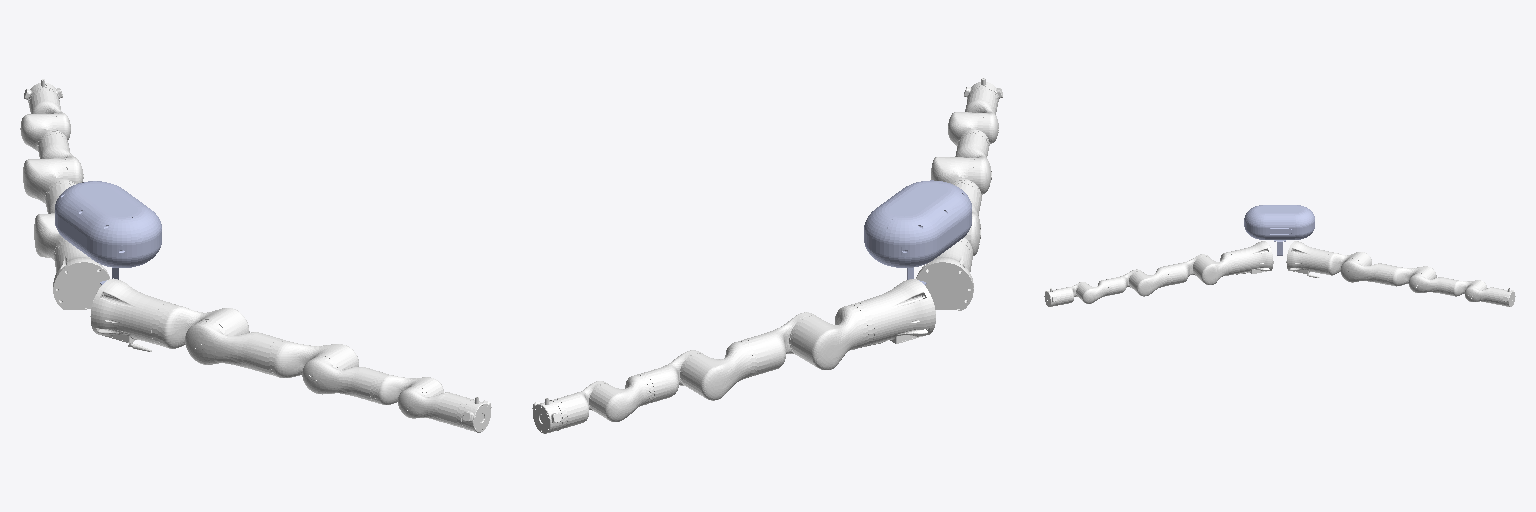
The robot description file, URDF, robot "dual_arm_description":
<?xml version="1.0" encoding="utf-8"?>
<!-- This URDF was automatically created by SolidWorks to URDF Exporter! Originally created by [author] ([email redacted]) 
     Commit Version: 1.6.0-1-g15f4949  Build Version: 1.6.7594.29634
     For more information, please see http://wiki.ros.org/sw_urdf_exporter -->
<robot
  name="dual_arm_description">
  <link
    name="base_link_body">
    <inertial>
      <origin
        xyz="0.0128539982690647 0.00024456315542483 0.454886228118401"
        rpy="0 0 0" />
      <mass
        value="4.84499867153642" />
      <inertia
        ixx="0.253916315389985"
        ixy="2.82770486252538E-05"
        ixz="0.0180888652883138"
        iyy="0.235976825156133"
        iyz="-0.00010574087379807"
        izz="0.0472926866224148" />
    </inertial>
    <visual>
      <origin
        xyz="0 0 0"
        rpy="0 0 0" />
      <geometry>
        <mesh
          filename="package://dual_arm_description/meshes/base_link_body.STL" />
      </geometry>
      <material
        name="">
        <color
          rgba="0.792156862745098 0.819607843137255 0.933333333333333 1" />
      </material>
    </visual>
    <collision>
      <origin
        xyz="0 0 0"
        rpy="0 0 0" />
      <geometry>
        <mesh
          filename="package://dual_arm_description/meshes/base_link_body.STL" />
      </geometry>
    </collision>
  </link>
  <link
    name="leftarm_baselink">
    <inertial>
      <origin
        xyz="-0.000432999595117889 -0.0253647866812423 0.0543107766307502"
        rpy="0 0 0" />
      <mass
        value="0.841053943258763" />
      <inertia
        ixx="0.00172611644034238"
        ixy="1.78270466618467E-05"
        ixz="-3.22528352436582E-05"
        iyy="0.00156466360449768"
        iyz="0.000309735880833908"
        izz="0.0010492386490986" />
    </inertial>
    <visual>
      <origin
        xyz="0 0 0"
        rpy="0 0 0" />
      <geometry>
        <mesh
          filename="package://dual_arm_description/meshes/leftarm_baselink.STL" />
      </geometry>
      <material
        name="">
        <color
          rgba="1 1 1 1" />
      </material>
    </visual>
    <collision>
      <origin
        xyz="0 0 0"
        rpy="0 0 0" />
      <geometry>
        <mesh
          filename="package://dual_arm_description/meshes/leftarm_baselink.STL" />
      </geometry>
    </collision>
  </link>
  <joint
    name="joint_leftarm_baselink"
    type="fixed">
    <origin
      xyz="-0.048582 0.046209 0.8505"
      rpy="1.5708 1.5708 3.1416" />
    <parent
      link="base_link_body" />
    <child
      link="leftarm_baselink" />
    <axis
      xyz="0 0 0" />
  </joint>
  <link
    name="l_link1">
    <inertial>
      <origin
        xyz="1.2558322970424E-07 0.0211078394712095 -0.0251870141264139"
        rpy="0 0 0" />
      <mass
        value="0.593542791255359" />
      <inertia
        ixx="0.00126609481431553"
        ixy="-1.1660705508757E-08"
        ixz="-6.7144103650412E-09"
        iyy="0.00118163394832993"
        iyz="-0.00021119635150706"
        izz="0.000561330691579395" />
    </inertial>
    <visual>
      <origin
        xyz="0 0 0"
        rpy="0 0 0" />
      <geometry>
        <mesh
          filename="package://dual_arm_description/meshes/leftarm_link1.STL" />
      </geometry>
      <material
        name="">
        <color
          rgba="1 1 1 1" />
      </material>
    </visual>
    <collision>
      <origin
        xyz="0 0 0"
        rpy="0 0 0" />
      <geometry>
        <mesh
          filename="package://dual_arm_description/meshes/leftarm_link1.STL" />
      </geometry>
    </collision>
  </link>
  <joint
    name="l_joint1"
    type="revolute">
    <origin
      xyz="0 -0.10164 0.21797"
      rpy="0.43633 0 0" />
    <parent
      link="leftarm_baselink" />
    <child
      link="l_link1" />
    <axis
      xyz="0 0 1" />
    <limit
      lower="-3.17"
      upper="3.17"
      effort="100"
      velocity="1" />
  </joint>
  <link
    name="l_link2">
    <inertial>
      <origin
        xyz="0.152256639181586 -6.8741057290822E-08 -0.00620274964884654"
        rpy="0 0 0" />
      <mass
        value="0.864164535306825" />
      <inertia
        ixx="0.000632534815773631"
        ixy="7.118138868789E-09"
        ixz="0.000421613307265105"
        iyy="0.00205269245714842"
        iyz="-2.37409002005455E-09"
        izz="0.00195280632966444" />
    </inertial>
    <visual>
      <origin
        xyz="0 0 0"
        rpy="0 0 0" />
      <geometry>
        <mesh
          filename="package://dual_arm_description/meshes/leftarm_link2.STL" />
      </geometry>
      <material
        name="">
        <color
          rgba="1 1 1 1" />
      </material>
    </visual>
    <collision>
      <origin
        xyz="0 0 0"
        rpy="0 0 0" />
      <geometry>
        <mesh
          filename="package://dual_arm_description/meshes/leftarm_link2.STL" />
      </geometry>
    </collision>
  </link>
  <joint
    name="l_joint2"
    type="revolute">
    <origin
      xyz="0 0 0"
      rpy="1.5708 -1.5708 0" />
    <parent
      link="l_link1" />
    <child
      link="l_link2" />
    <axis
      xyz="0 0 1" />
    <limit
      lower="-2.269"
      upper="2.269"
      effort="100"
      velocity="1" />
  </joint>
  <link
    name="l_link3">
    <inertial>
      <origin
        xyz="4.581346443433E-06 -0.0595918690908317 0.0105678729075792"
        rpy="0 0 0" />
      <mass
        value="0.289627183438536" />
      <inertia
        ixx="0.000637372381443394"
        ixy="-6.1176938209959E-08"
        ixz="-3.47055290197872E-08"
        iyy="0.000156488372553995"
        iyz="-0.000144609986104378"
        izz="0.000614182528015267" />
    </inertial>
    <visual>
      <origin
        xyz="0 0 0"
        rpy="0 0 0" />
      <geometry>
        <mesh
          filename="package://dual_arm_description/meshes/leftarm_link3.STL" />
      </geometry>
      <material
        name="">
        <color
          rgba="1 1 1 1" />
      </material>
    </visual>
    <collision>
      <origin
        xyz="0 0 0"
        rpy="0 0 0" />
      <geometry>
        <mesh
          filename="package://dual_arm_description/meshes/leftarm_link3.STL" />
      </geometry>
    </collision>
  </link>
  <joint
    name="l_joint3"
    type="revolute">
    <origin
      xyz="0.256 0 0"
      rpy="0 0 1.5708" />
    <parent
      link="l_link2" />
    <child
      link="l_link3" />
    <axis
      xyz="0 0 1" />
    <limit
      lower="-2.356"
      upper="2.356"
      effort="100"
      velocity="1" />
  </joint>
  <link
    name="l_link4">
    <inertial>
      <origin
        xyz="1.24680132917998E-06 -0.0180408018957722 -0.0215409760570937"
        rpy="0 0 0" />
      <mass
        value="0.239401552827541" />
      <inertia
        ixx="0.000285939946652697"
        ixy="2.87028719092788E-09"
        ixz="-2.03297192163457E-09"
        iyy="0.000262727437679864"
        iyz="4.42371878984772E-05"
        izz="0.000119889210152995" />
    </inertial>
    <visual>
      <origin
        xyz="0 0 0"
        rpy="0 0 0" />
      <geometry>
        <mesh
          filename="package://dual_arm_description/meshes/leftarm_link4.STL" />
      </geometry>
      <material
        name="">
        <color
          rgba="1 1 1 1" />
      </material>
    </visual>
    <collision>
      <origin
        xyz="0 0 0"
        rpy="0 0 0" />
      <geometry>
        <mesh
          filename="package://dual_arm_description/meshes/leftarm_link4.STL" />
      </geometry>
    </collision>
  </link>
  <joint
    name="l_joint4"
    type="revolute">
    <origin
      xyz="0 -0.21 0"
      rpy="1.5708 0 0" />
    <parent
      link="l_link3" />
    <child
      link="l_link4" />
    <axis
      xyz="0 0 1" />
    <limit
      lower="-3.107"
      upper="3.107"
      effort="100"
      velocity="1" />
  </joint>
  <link
    name="l_link5">
    <inertial>
      <origin
        xyz="3.18527992748674E-06 -0.0593808069262866 0.00736685077974486"
        rpy="0 0 0" />
      <mass
        value="0.218788518710121" />
      <inertia
        ixx="0.00035053220334839"
        ixy="-2.91054107188612E-08"
        ixz="-1.69368293536455E-08"
        iyy="0.000104923882805524"
        iyz="-7.8240459135383E-05"
        izz="0.000334473394056977" />
    </inertial>
    <visual>
      <origin
        xyz="0 0 0"
        rpy="0 0 0" />
      <geometry>
        <mesh
          filename="package://dual_arm_description/meshes/leftarm_link5.STL" />
      </geometry>
      <material
        name="">
        <color
          rgba="1 1 1 1" />
      </material>
    </visual>
    <collision>
      <origin
        xyz="0 0 0"
        rpy="0 0 0" />
      <geometry>
        <mesh
          filename="package://dual_arm_description/meshes/leftarm_link5.STL" />
      </geometry>
    </collision>
  </link>
  <joint
    name="l_joint5"
    type="revolute">
    <origin
      xyz="0 0 0"
      rpy="-1.5708 0 0" />
    <parent
      link="l_link4" />
    <child
      link="l_link5" />
    <axis
      xyz="0 0 1" />
    <limit
      lower="-2.234"
      upper="2.234"
      effort="100"
      velocity="1" />
  </joint>
  <link
    name="l_link6">
    <inertial>
      <origin
        xyz="0.000815494474258882 1.33024504395673E-05 -0.0127046894991738"
        rpy="0 0 0" />
      <mass
        value="0.0650365013096983" />
      <inertia
        ixx="2.11435758493354E-05"
        ixy="-2.27635075237127E-08"
        ixz="-2.54504574357203E-08"
        iyy="1.81086373188316E-05"
        iyz="-1.02171121765921E-08"
        izz="3.18999881344653E-05" />
    </inertial>
    <visual>
      <origin
        xyz="0 0 0"
        rpy="0 0 0" />
      <geometry>
        <mesh
          filename="package://dual_arm_description/meshes/leftarm_link6.STL" />
      </geometry>
      <material
        name="">
        <color
          rgba="1 1 1 1" />
      </material>
    </visual>
    <collision>
      <origin
        xyz="0 0 0"
        rpy="0 0 0" />
      <geometry>
        <mesh
          filename="package://dual_arm_description/meshes/leftarm_link6.STL" />
      </geometry>
    </collision>
  </link>
  <joint
    name="l_joint6"
    type="revolute">
    <origin
      xyz="0 -0.144 0"
      rpy="1.5708 0 0" />
    <parent
      link="l_link5" />
    <child
      link="l_link6" />
    <axis
      xyz="0 0 1" />
    <limit
      lower="-6.283"
      upper="6.283"
      effort="100"
      velocity="1" />
  </joint>
  <link
    name="rightarm_baselink">
    <inertial>
      <origin
        xyz="-0.000433113884992009 -3.51019227824573E-05 0.0599421388510736"
        rpy="0 0 0" />
      <mass
        value="0.841043880067011" />
      <inertia
        ixx="0.00172610477060889"
        ixy="2.52732087166354E-06"
        ixz="-3.67683678117906E-05"
        iyy="0.00170986821986806"
        iyz="1.68071317514513E-06"
        izz="0.000904018060785049" />
    </inertial>
    <visual>
      <origin
        xyz="0 0 0"
        rpy="0 0 0" />
      <geometry>
        <mesh
          filename="package://dual_arm_description/meshes/rightarm_baselink.STL" />
      </geometry>
      <material
        name="">
        <color
          rgba="1 1 1 1" />
      </material>
    </visual>
    <collision>
      <origin
        xyz="0 0 0"
        rpy="0 0 0" />
      <geometry>
        <mesh
          filename="package://dual_arm_description/meshes/rightarm_baselink.STL" />
      </geometry>
    </collision>
  </link>
  <joint
    name="joint_rightarm_baselink"
    type="fixed">
    <origin
      xyz="-0.048582 -0.045624 0.8505"
      rpy="-1.5708 1.5708 -2.7053" />
    <parent
      link="base_link_body" />
    <child
      link="rightarm_baselink" />
    <axis
      xyz="0 0 0" />
  </joint>
  <link
    name="r_link1">
    <inertial>
      <origin
        xyz="2.4328534264928E-07 0.0211084151465185 -0.0251857587696857"
        rpy="0 0 0" />
      <mass
        value="0.593559090524872" />
      <inertia
        ixx="0.00126612995129149"
        ixy="-1.49938755826745E-08"
        ixz="1.27507001829319E-08"
        iyy="0.00118166925262709"
        iyz="-0.000211214528270289"
        izz="0.000561349546552977" />
    </inertial>
    <visual>
      <origin
        xyz="0 0 0"
        rpy="0 0 0" />
      <geometry>
        <mesh
          filename="package://dual_arm_description/meshes/rightarm_link1.STL" />
      </geometry>
      <material
        name="">
        <color
          rgba="1 1 1 1" />
      </material>
    </visual>
    <collision>
      <origin
        xyz="0 0 0"
        rpy="0 0 0" />
      <geometry>
        <mesh
          filename="package://dual_arm_description/meshes/rightarm_link1.STL" />
      </geometry>
    </collision>
  </link>
  <joint
    name="r_joint1"
    type="revolute">
    <origin
      xyz="0 0 0.2405"
      rpy="0 0 0" />
    <parent
      link="rightarm_baselink" />
    <child
      link="r_link1" />
    <axis
      xyz="0 0 1" />
    <limit
      lower="-3.17"
      upper="3.17"
      effort="100"
      velocity="1" />
  </joint>
  <link
    name="r_link2">
    <inertial>
      <origin
        xyz="0.152255830104308 -1.0467066902109E-07 -0.00620257380254835"
        rpy="0 0 0" />
      <mass
        value="0.864167223088339" />
      <inertia
        ixx="0.000632535359777888"
        ixy="-1.02597241036801E-08"
        ixz="0.00042162057577217"
        iyy="0.00205270852835029"
        iyz="8.03680128129144E-10"
        izz="0.00195281903232891" />
    </inertial>
    <visual>
      <origin
        xyz="0 0 0"
        rpy="0 0 0" />
      <geometry>
        <mesh
          filename="package://dual_arm_description/meshes/rightarm_link2.STL" />
      </geometry>
      <material
        name="">
        <color
          rgba="1 1 1 1" />
      </material>
    </visual>
    <collision>
      <origin
        xyz="0 0 0"
        rpy="0 0 0" />
      <geometry>
        <mesh
          filename="package://dual_arm_description/meshes/rightarm_link2.STL" />
      </geometry>
    </collision>
  </link>
  <joint
    name="r_joint2"
    type="revolute">
    <origin
      xyz="0 0 0"
      rpy="1.5708 -1.5708 0" />
    <parent
      link="r_link1" />
    <child
      link="r_link2" />
    <axis
      xyz="0 0 1" />
    <limit
      lower="-2.269"
      upper="2.269"
      effort="100"
      velocity="1" />
  </joint>
  <link
    name="r_link3">
    <inertial>
      <origin
        xyz="5.52391717467682E-06 -0.0595916227122395 0.0105703991743573"
        rpy="0 0 0" />
      <mass
        value="0.289630363340933" />
      <inertia
        ixx="0.000637371082598885"
        ixy="-7.65858084986364E-08"
        ixz="-4.16812573472858E-08"
        iyy="0.000156481849154391"
        iyz="-0.000144610812036888"
        izz="0.000614175688513162" />
    </inertial>
    <visual>
      <origin
        xyz="0 0 0"
        rpy="0 0 0" />
      <geometry>
        <mesh
          filename="package://dual_arm_description/meshes/rightarm_link3.STL" />
      </geometry>
      <material
        name="">
        <color
          rgba="1 1 1 1" />
      </material>
    </visual>
    <collision>
      <origin
        xyz="0 0 0"
        rpy="0 0 0" />
      <geometry>
        <mesh
          filename="package://dual_arm_description/meshes/rightarm_link3.STL" />
      </geometry>
    </collision>
  </link>
  <joint
    name="r_joint3"
    type="revolute">
    <origin
      xyz="0.256 0 0"
      rpy="0 0 1.5708" />
    <parent
      link="r_link2" />
    <child
      link="r_link3" />
    <axis
      xyz="0 0 1" />
    <limit
      lower="-2.356"
      upper="2.356"
      effort="100"
      velocity="1" />
  </joint>
  <link
    name="r_link4">
    <inertial>
      <origin
        xyz="1.3415659080307E-06 -0.0180409868337329 -0.0215412554023469"
        rpy="0 0 0" />
      <mass
        value="0.239404736569047" />
      <inertia
        ixx="0.000285944037894423"
        ixy="-9.61106690777394E-10"
        ixz="-1.71729709223439E-10"
        iyy="0.000262730635061587"
        iyz="4.42385748513819E-05"
        izz="0.000119896966999011" />
    </inertial>
    <visual>
      <origin
        xyz="0 0 0"
        rpy="0 0 0" />
      <geometry>
        <mesh
          filename="package://dual_arm_description/meshes/rightarm_link4.STL" />
      </geometry>
      <material
        name="">
        <color
          rgba="1 1 1 1" />
      </material>
    </visual>
    <collision>
      <origin
        xyz="0 0 0"
        rpy="0 0 0" />
      <geometry>
        <mesh
          filename="package://dual_arm_description/meshes/rightarm_link4.STL" />
      </geometry>
    </collision>
  </link>
  <joint
    name="r_joint4"
    type="revolute">
    <origin
      xyz="0 -0.21 0"
      rpy="1.5708 0 0" />
    <parent
      link="r_link3" />
    <child
      link="r_link4" />
    <axis
      xyz="0 0 1" />
    <limit
      lower="-3.107"
      upper="3.107"
      effort="100"
      velocity="1" />
  </joint>
  <link
    name="r_link5">
    <inertial>
      <origin
        xyz="3.30037335949385E-06 -0.0593804290076836 0.00736919202783246"
        rpy="0 0 0" />
      <mass
        value="0.218794351178889" />
      <inertia
        ixx="0.000350538397335421"
        ixy="-3.50100440529632E-08"
        ixz="-1.82096966746362E-08"
        iyy="0.000104927580577148"
        iyz="-7.82424194508105E-05"
        izz="0.000334480013682156" />
    </inertial>
    <visual>
      <origin
        xyz="0 0 0"
        rpy="0 0 0" />
      <geometry>
        <mesh
          filename="package://dual_arm_description/meshes/rightarm_link5.STL" />
      </geometry>
      <material
        name="">
        <color
          rgba="1 1 1 1" />
      </material>
    </visual>
    <collision>
      <origin
        xyz="0 0 0"
        rpy="0 0 0" />
      <geometry>
        <mesh
          filename="package://dual_arm_description/meshes/rightarm_link5.STL" />
      </geometry>
    </collision>
  </link>
  <joint
    name="r_joint5"
    type="revolute">
    <origin
      xyz="0 0 0"
      rpy="-1.5708 0 0" />
    <parent
      link="r_link4" />
    <child
      link="r_link5" />
    <axis
      xyz="0 0 1" />
    <limit
      lower="-2.234"
      upper="2.234"
      effort="100"
      velocity="1" />
  </joint>
  <link
    name="r_link6">
    <inertial>
      <origin
        xyz="0.000815489194820551 1.33391176037612E-05 -0.0127046894116005"
        rpy="0 0 0" />
      <mass
        value="0.0650364924056105" />
      <inertia
        ixx="2.11435848447242E-05"
        ixy="-2.27832144631255E-08"
        ixz="-2.54487581488625E-08"
        iyy="1.81086225915782E-05"
        iyz="-1.02139856060162E-08"
        izz="3.18999828483013E-05" />
    </inertial>
    <visual>
      <origin
        xyz="0 0 0"
        rpy="0 0 0" />
      <geometry>
        <mesh
          filename="package://dual_arm_description/meshes/rightarm_link6.STL" />
      </geometry>
      <material
        name="">
        <color
          rgba="1 1 1 1" />
      </material>
    </visual>
    <collision>
      <origin
        xyz="0 0 0"
        rpy="0 0 0" />
      <geometry>
        <mesh
          filename="package://dual_arm_description/meshes/rightarm_link6.STL" />
      </geometry>
    </collision>
  </link>
  <joint
    name="r_joint6"
    type="revolute">
    <origin
      xyz="0 -0.144 0"
      rpy="1.5708 0 0" />
    <parent
      link="r_link5" />
    <child
      link="r_link6" />
    <axis
      xyz="0 0 1" />
    <limit
      lower="-6.283"
      upper="6.283"
      effort="100"
      velocity="1" />
  </joint>


  <link
    name="head_link_roll">
    <inertial>
      <origin
        xyz="0.000965050199501993 -0.000187498154722046 0.0178488897188962"
        rpy="0 0 0" />
      <mass
        value="0.0457689990714142" />
      <inertia
        ixx="1.92774546666648E-05"
        ixy="-8.48834505428225E-10"
        ixz="9.09083371040604E-07"
        iyy="1.32339747540687E-05"
        iyz="7.41262799111429E-08"
        izz="1.08702200159287E-05" />
    </inertial>
    <visual>
      <origin
        xyz="0 0 0"
        rpy="0 0 0" />
      <geometry>
        <mesh
          filename="package://dual_arm_description/meshes/head_link_roll.STL" />
      </geometry>
      <material
        name="">
        <color
          rgba="0.792156862745098 0.819607843137255 0.933333333333333 1" />
      </material>
    </visual>
    <collision>
      <origin
        xyz="0 0 0"
        rpy="0 0 0" />
      <geometry>
        <mesh
          filename="package://dual_arm_description/meshes/head_link_roll.STL" />
      </geometry>
    </collision>
  </link>


  <joint
    name="joint_head_link_roll"
    type="revolute">
    <origin
      xyz="-0.020729 0.00029234 0.9295"
      rpy="0 0 0" />
    <parent
      link="base_link_body" />
    <child
      link="head_link_roll" />
    <axis
      xyz="0 0 -1" />
    <limit
      lower="-1.57"
      upper="1.57"
      effort="100"
      velocity="1" />
  </joint>
  <link
    name="head_link_pitch">
    <inertial>
      <origin
        xyz="0.0125866970692688 -0.0413622773252307 0.0336350918079933"
        rpy="0 0 0" />
      <mass
        value="0.376692761358455" />
      <inertia
        ixx="0.00206399176410361"
        ixy="4.16297177548985E-07"
        ixz="-4.84085838639908E-07"
        iyy="0.000497613370166287"
        iyz="4.27048213947476E-08"
        izz="0.00186930377295122" />
    </inertial>
    <visual>
      <origin
        xyz="0 0 0"
        rpy="0 0 0" />
      <geometry>
        <mesh
          filename="package://dual_arm_description/meshes/head_link_pitch.STL" />
      </geometry>
      <material
        name="">
        <color
          rgba="0.792156862745098 0.819607843137255 0.933333333333333 1" />
      </material>
    </visual>
    <collision>
      <origin
        xyz="0 0 0"
        rpy="0 0 0" />
      <geometry>
        <mesh
          filename="package://dual_arm_description/meshes/head_link_pitch.STL" />
      </geometry>
    </collision>
  </link>


  <joint
    name="joint_head_link_pitch"
    type="revolute">
    <origin
      xyz="0 0.041 0.0345"
      rpy="0 0 0" />
    <parent
      link="head_link_roll" />
    <child
      link="head_link_pitch" />
    <axis
      xyz="0 -1 0" />
    <limit
      lower="-0.523"
      upper="0.174"
      effort="100"
      velocity="1" />
  </joint>

</robot>

--- Facts derived from the render (not from the file) ---
3 views of the same robot in one strip: view 1: azimuth 30°, elevation 25°; view 2: azimuth 150°, elevation 25°; view 3: azimuth 270°, elevation 25° (orthographic).
Model dual_arm_description with 17 links and 16 joints (14 revolute, 2 fixed), rooted at base_link_body, posed all joints at 0.
Visible links, largest first — view 1: head_link_pitch, r_link2, rightarm_baselink, leftarm_baselink, r_link1, r_link3, l_link2, r_link5, r_link4, l_link3, l_link1, l_link4 (+2 smaller); view 2: head_link_pitch, l_link2, leftarm_baselink, l_link1, rightarm_baselink, l_link4, r_link2, r_link3, l_link3, r_link5, l_link5, r_link4 (+1 smaller); view 3: head_link_pitch, l_link2, r_link2, leftarm_baselink, rightarm_baselink, r_link1, l_link3, l_link1, l_link5.
Link boxes in pixels (bbox=[...]): head_link_pitch: bbox=[55, 181, 161, 267]; r_link2: bbox=[185, 321, 358, 377]; rightarm_baselink: bbox=[90, 278, 171, 351]; leftarm_baselink: bbox=[53, 240, 109, 309]; r_link1: bbox=[156, 304, 249, 348]; r_link3: bbox=[302, 357, 385, 402]; l_link2: bbox=[23, 158, 75, 213]; r_link5: bbox=[398, 387, 470, 427]; r_link4: bbox=[374, 374, 443, 404]; l_link3: bbox=[38, 133, 83, 183]; l_link1: bbox=[34, 213, 65, 259]; l_link4: bbox=[20, 113, 68, 150]; head_link_pitch: bbox=[864, 180, 971, 267]; l_link2: bbox=[680, 312, 815, 400]; leftarm_baselink: bbox=[855, 279, 935, 346]; l_link1: bbox=[789, 304, 869, 369]; rightarm_baselink: bbox=[916, 240, 973, 310]; l_link4: bbox=[589, 374, 650, 421]; r_link2: bbox=[931, 157, 981, 255]; r_link3: bbox=[955, 133, 991, 194]; l_link3: bbox=[640, 350, 702, 404]; r_link5: bbox=[965, 88, 998, 143]; l_link5: bbox=[553, 381, 607, 428]; r_link4: bbox=[948, 112, 989, 145]; head_link_pitch: bbox=[1244, 205, 1314, 239]; l_link2: bbox=[1341, 260, 1436, 286]; r_link2: bbox=[1129, 254, 1208, 296]; leftarm_baselink: bbox=[1286, 241, 1328, 277]; rightarm_baselink: bbox=[1231, 241, 1273, 274]; r_link1: bbox=[1193, 252, 1235, 284]; l_link3: bbox=[1409, 274, 1453, 295]; l_link1: bbox=[1324, 252, 1371, 275]; l_link5: bbox=[1465, 286, 1504, 304].
Size in the robot's own frame: 0.4398 by 1.66 by 0.2533 metres.
16 mesh visuals loaded from 17 distinct referenced files (16 binary STL); not drawn: 1 (reference not matched to a file when rendering).